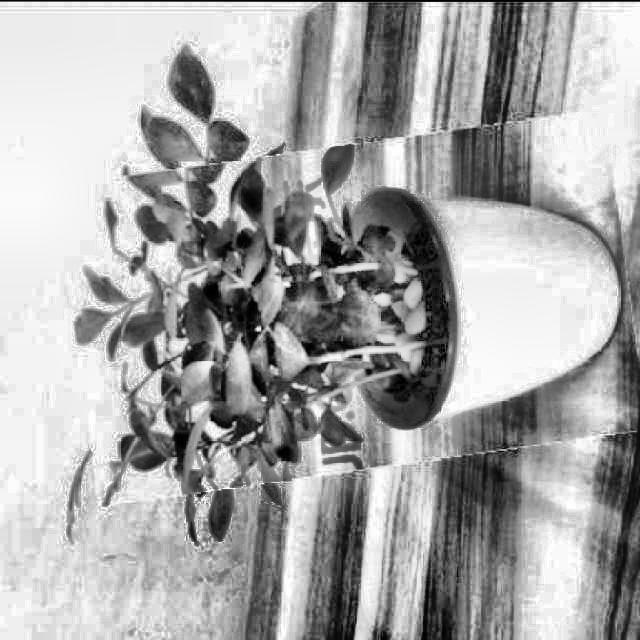plants: (66, 126, 639, 486)
